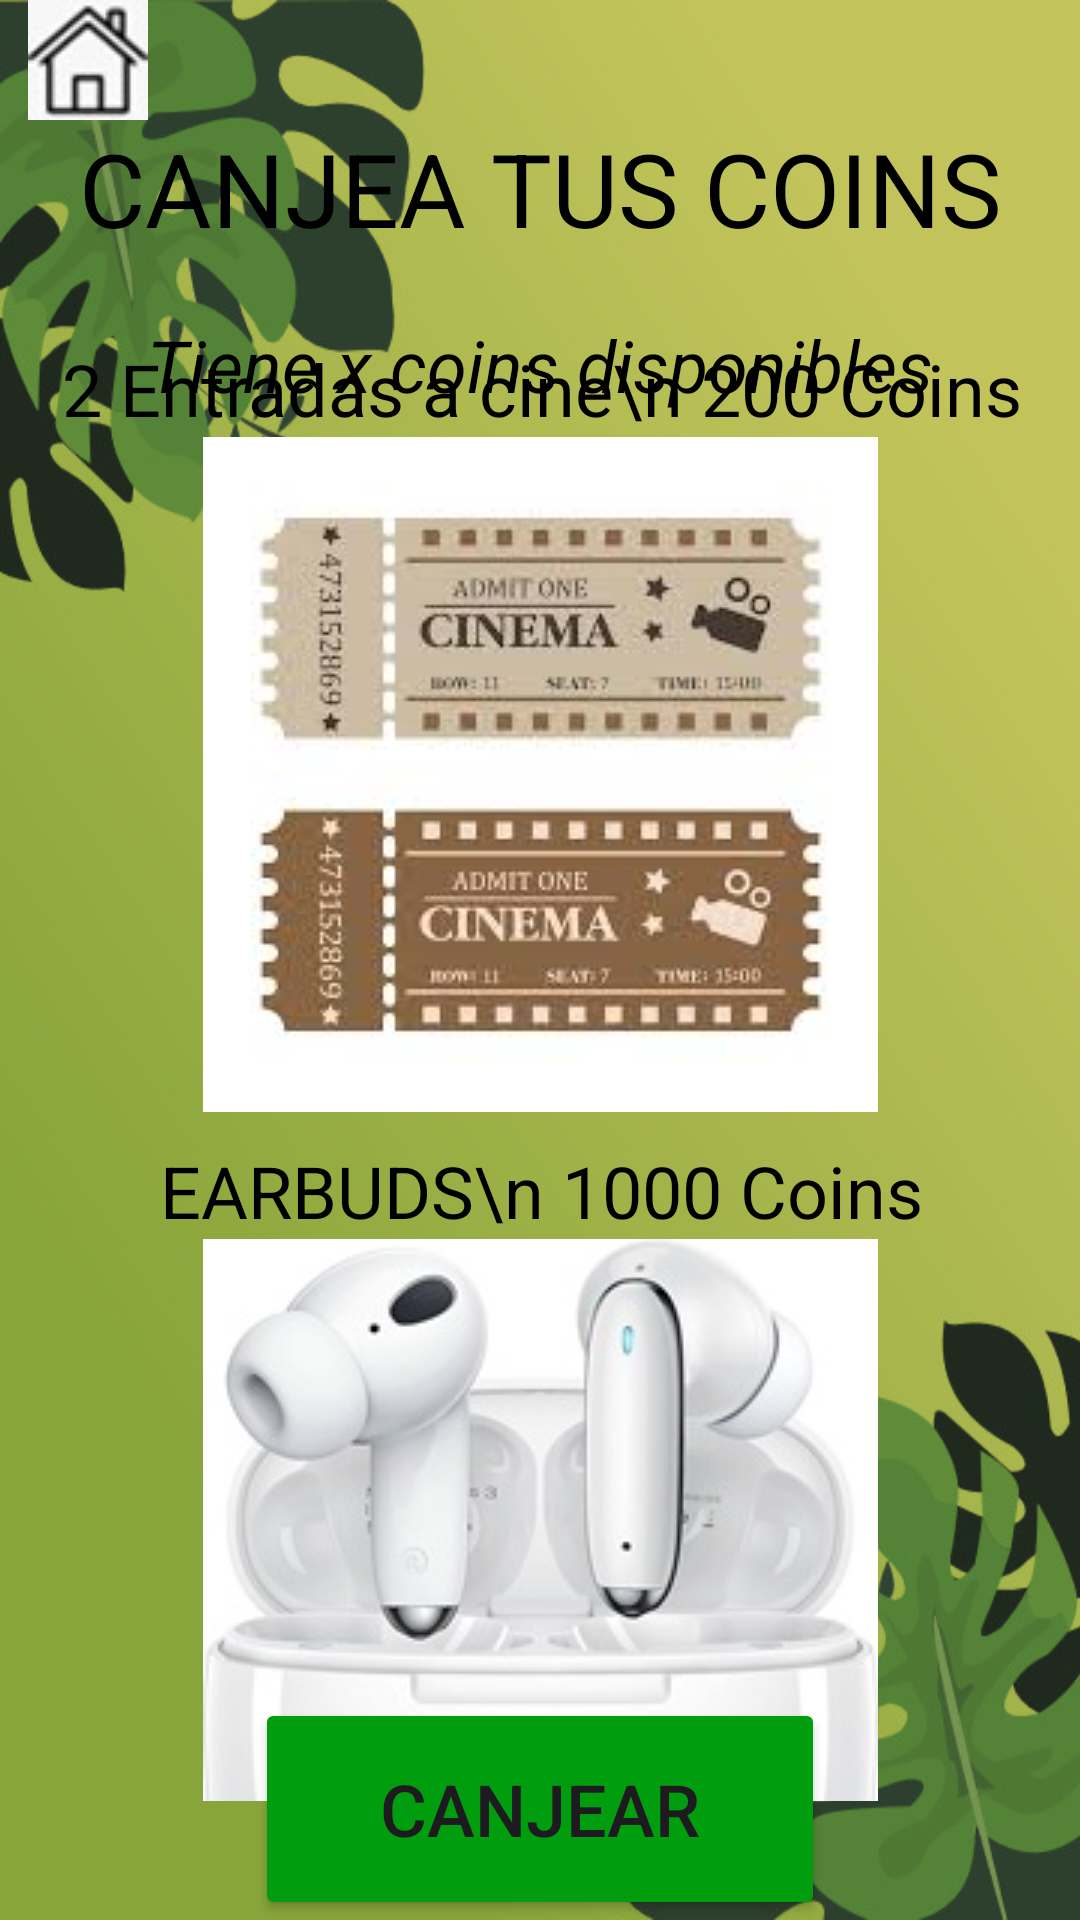

Icons on this 1080 × 1920 Android screen, each with the point to tap as point (x, y):
Inicio: point (88, 60)
